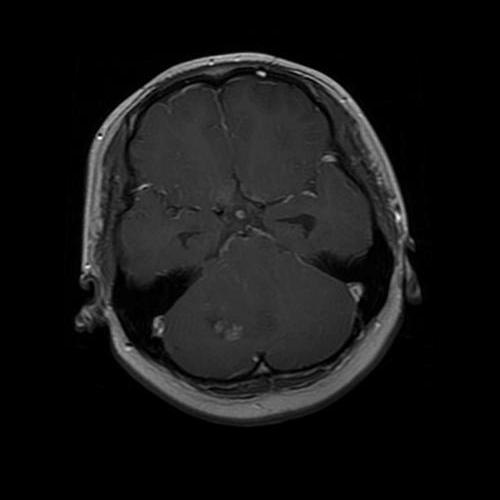Tumour-Glioma: (184, 315, 250, 355)
